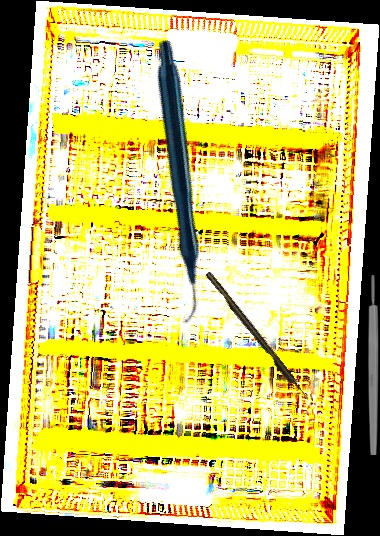Handpiece: (43, 37, 307, 326)
Hook Surgical: (204, 270, 310, 402)
Scalpel Handle: (368, 275, 379, 455)
